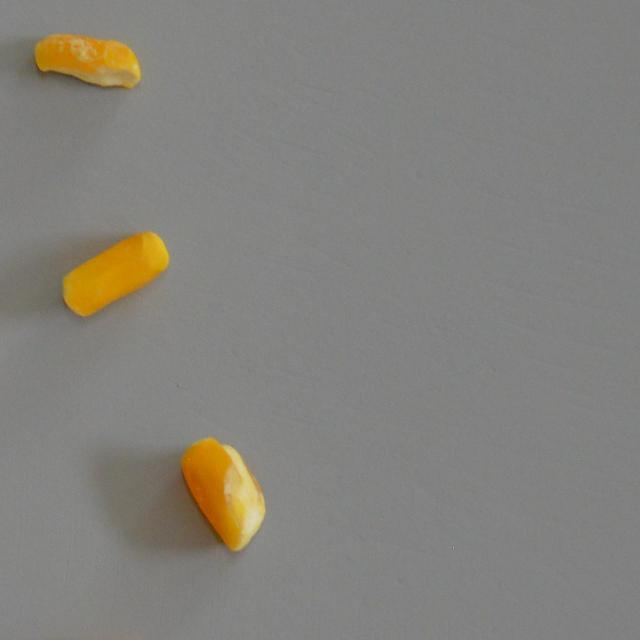estandar: (180, 436, 266, 550), (60, 230, 168, 316)
pelicula: (32, 30, 143, 94)
